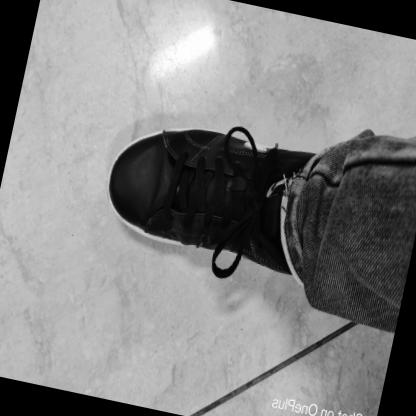ankle: (275, 232, 280, 239)
heel: (286, 269, 291, 274)
left_foot: (96, 112, 323, 277)
pinky: (133, 145, 142, 154)
toe: (119, 207, 128, 216)
